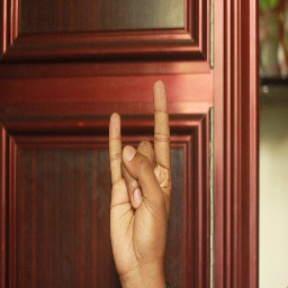V: (103, 78, 178, 257)
